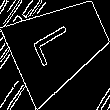L_NE: (34, 19, 85, 70)
